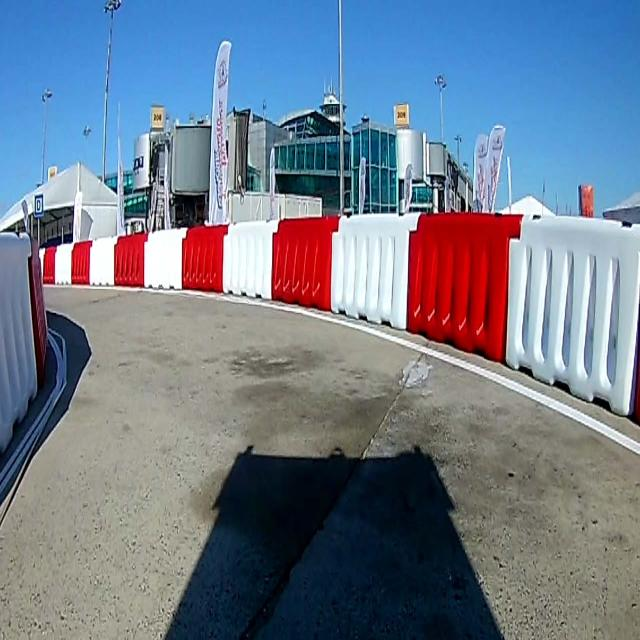durak: (34, 193, 44, 218)
